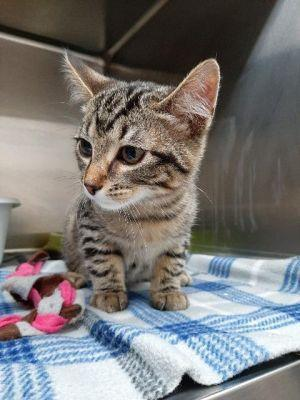bengal: (54, 43, 229, 221)
